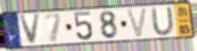5: (73, 11, 95, 42)
7: (44, 13, 63, 44)
8: (98, 10, 119, 40)
U: (150, 6, 177, 37)
V: (18, 13, 43, 46), (125, 7, 149, 40)
